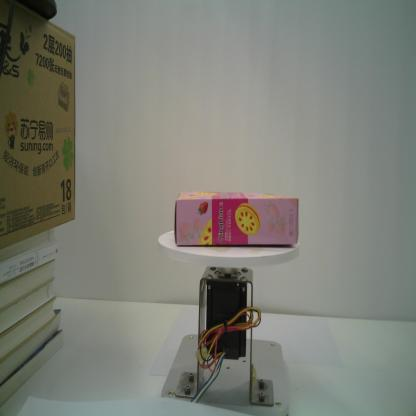Dessert: (173, 190, 300, 248)
